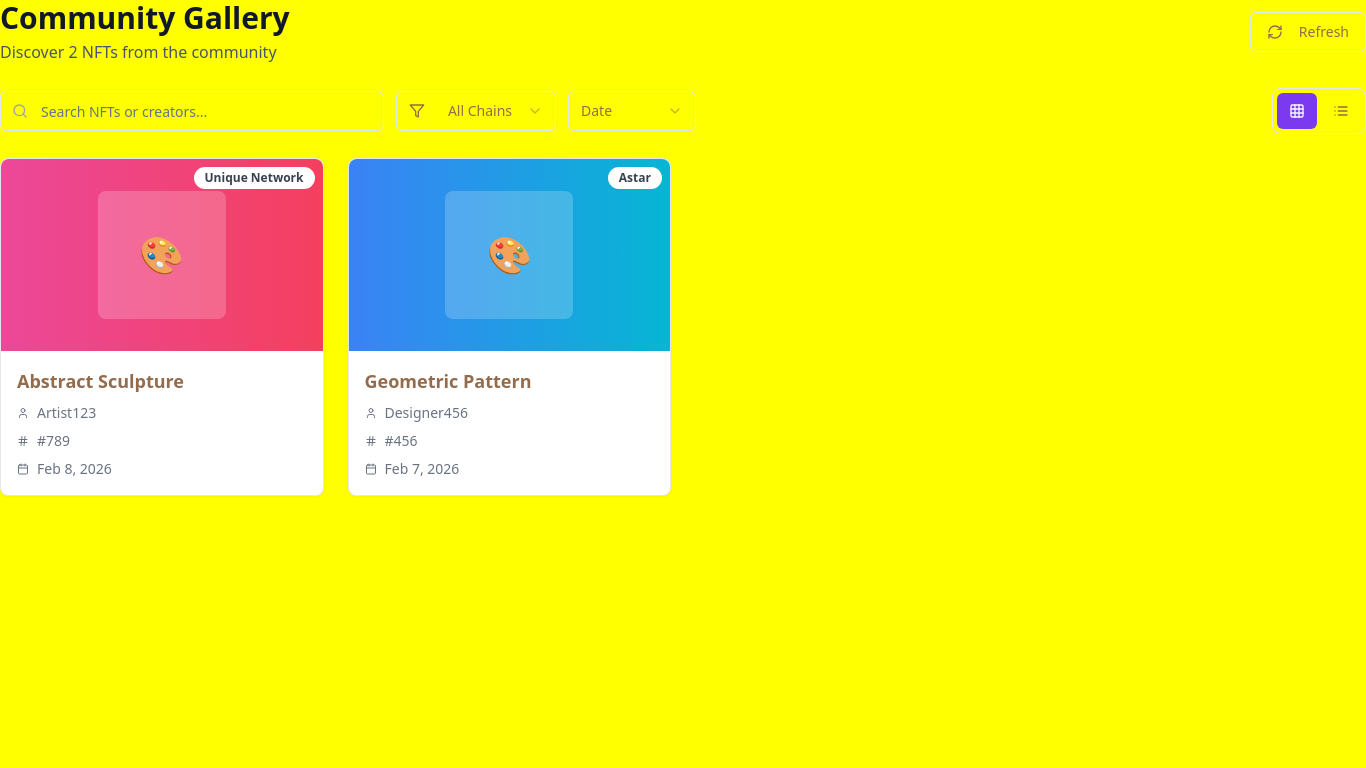
it: CommunityGallery › closes modal when clicking close button
Expected: the heading "Abstract Sculpture" is shown, [17,369,184,393]
# Open modal
What coordinates should you click on to do the following:
click the button with aria-label "View Abstract Sculpture by Artist123"
I would click on:
 (162, 327)
Its box is [0,158,324,496].
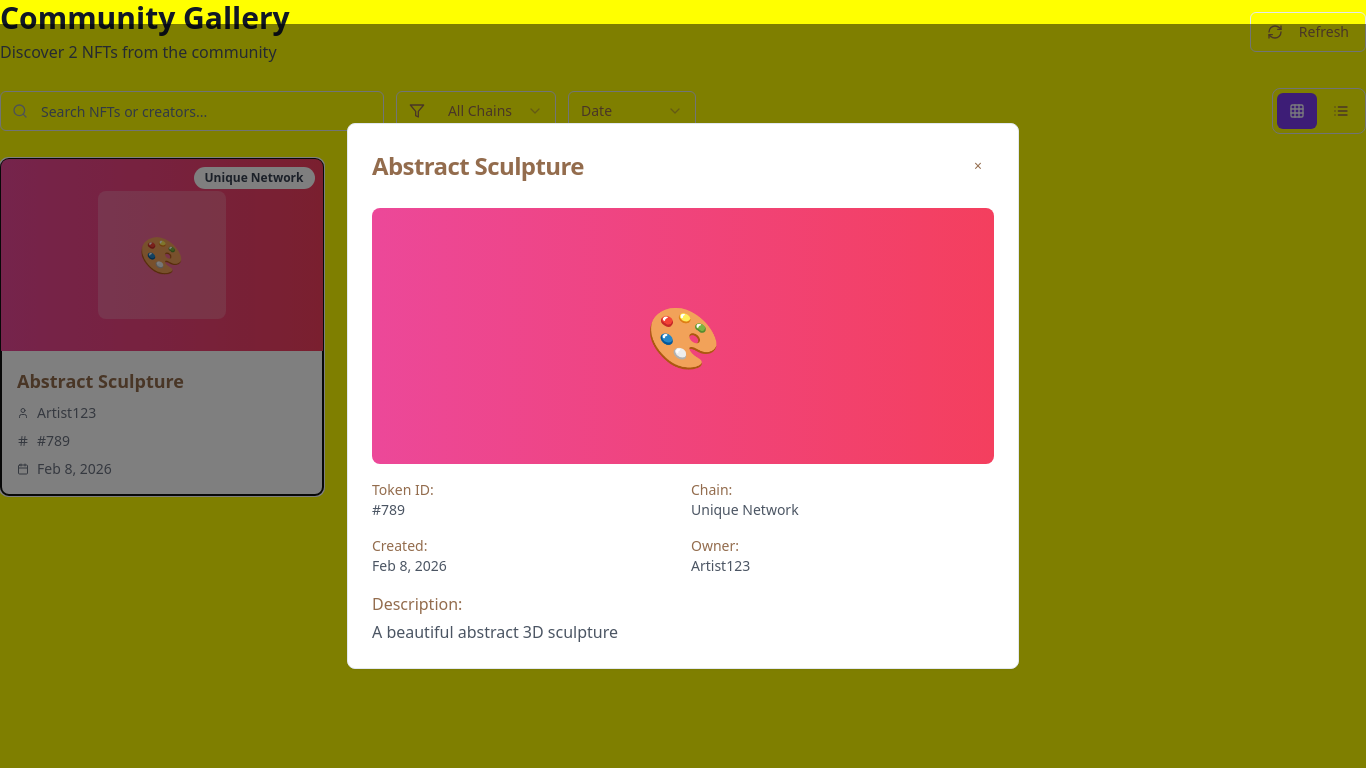
Expected: the dialog is shown
# Close modal
What coordinates should you click on to do the following:
click the button named "Close modal"
I would click on:
 (978, 166)
Its box is [962,148,994,184].
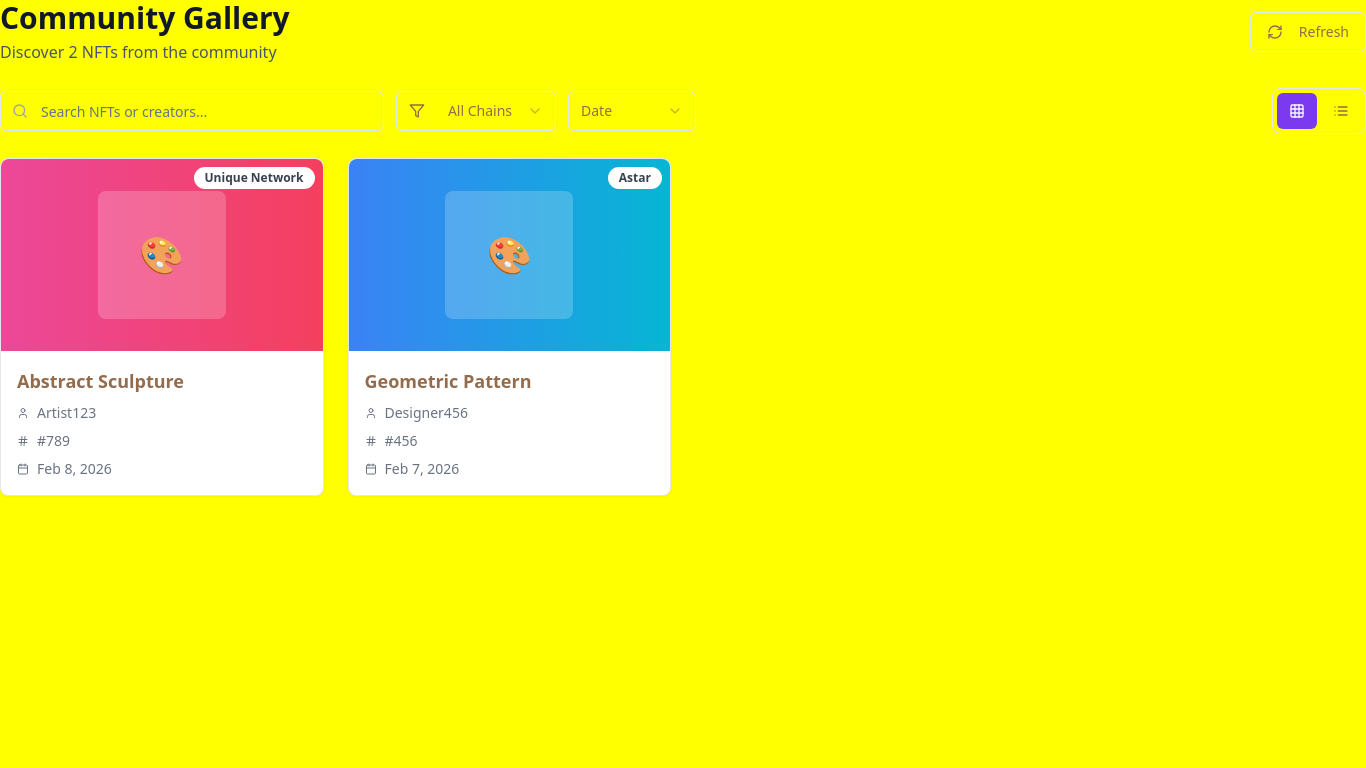
Expected: the dialog is gone
